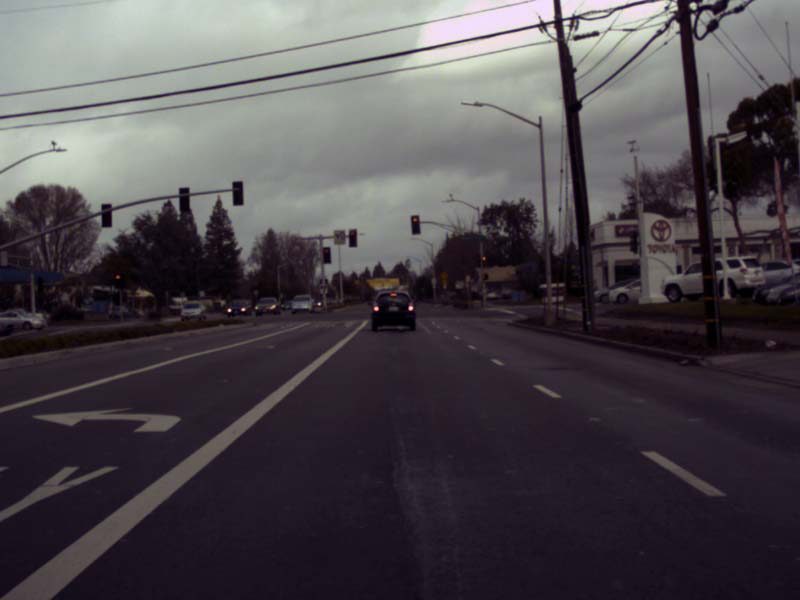Red: (410, 215, 420, 234), (322, 246, 331, 263), (349, 228, 356, 247), (115, 273, 121, 288), (481, 255, 485, 267)
